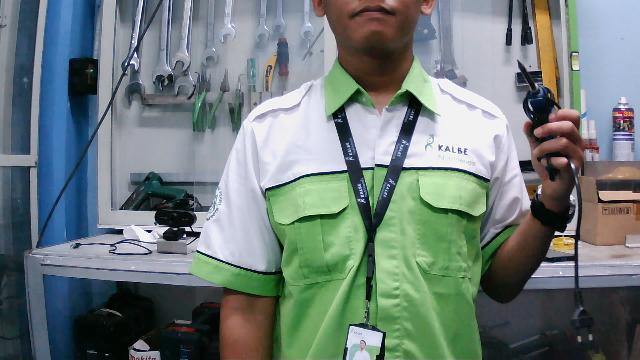solder_electrical: (512, 54, 585, 185)
